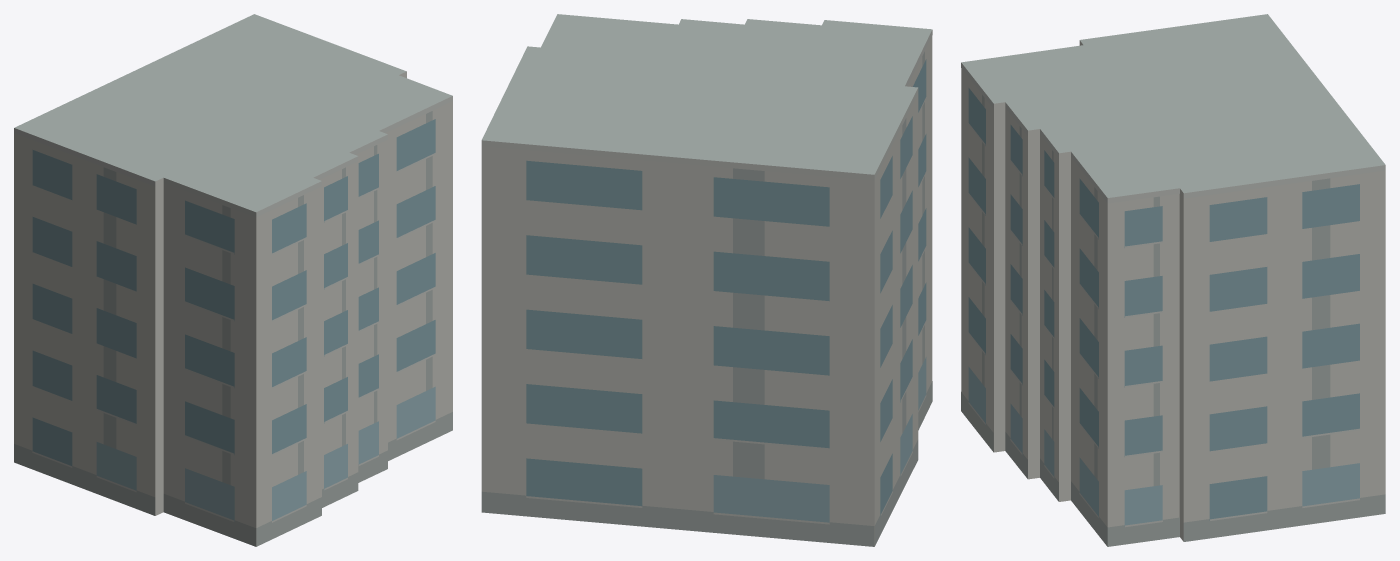
File: survey-upis-32760307.glb
The picture shows the model from 3 angles, left to right: view 1: azimuth 30°, elevation 25°; view 2: azimuth 150°, elevation 25°; view 3: azimuth 270°, elevation 25°; orthographic projection. The views are drawn at different scales.
Visible parts, largest first — view 1: survey-upis-32760307.tmp; view 2: survey-upis-32760307.tmp; view 3: survey-upis-32760307.tmp.
Boxes of the visible parts, left/top/right/bottom form: survey-upis-32760307.tmp: left=14, top=14, right=452, bottom=546; survey-upis-32760307.tmp: left=481, top=14, right=932, bottom=546; survey-upis-32760307.tmp: left=961, top=14, right=1385, bottom=546.
Bounding box in the file's own units: 17.27 × 15.25 × 16.84.
